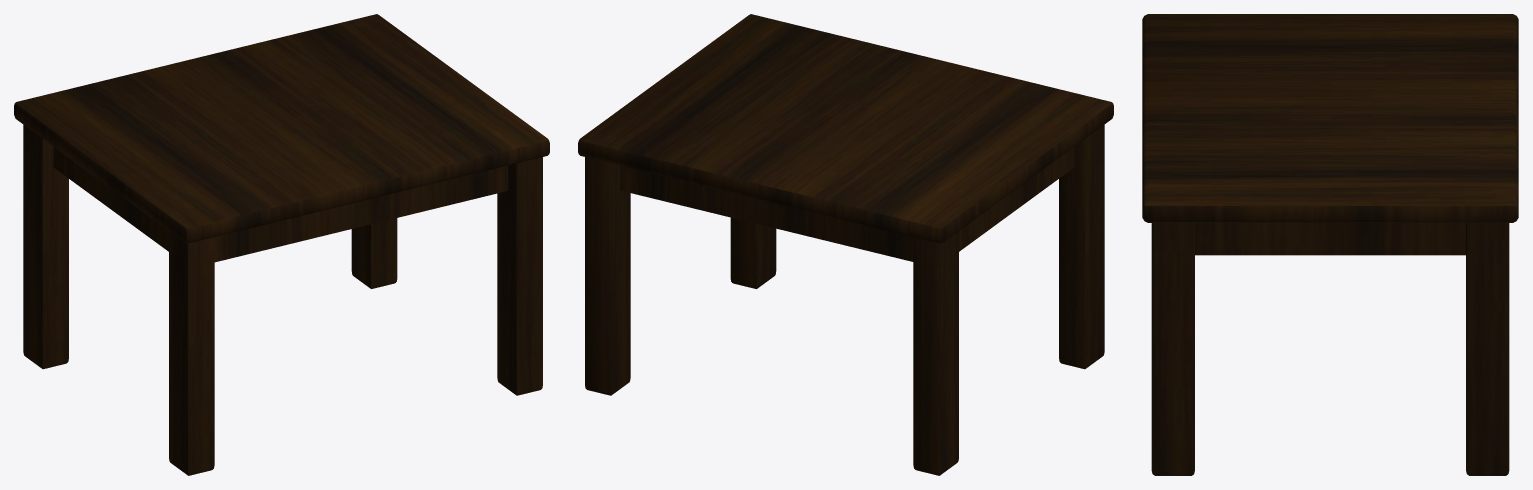
The model's file is Small table.FBX.
The picture shows the model from 3 angles, left to right: view 1: azimuth 30°, elevation 25°; view 2: azimuth 150°, elevation 25°; view 3: azimuth 270°, elevation 25°; orthographic projection. The views are drawn at different scales.
Parts seen in each view (by area): view 1: Small table; view 2: Small table; view 3: Small table.
Boxes of the visible parts, x1,y1,x2,y2 form: Small table: (14, 14, 549, 475); Small table: (578, 14, 1113, 475); Small table: (1142, 14, 1518, 475).
Size of the model in its own units: 143 by 95.24 by 118.
1 material, 1 textured.
